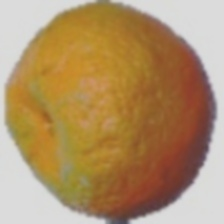tangerine: (42, 46, 206, 198)
